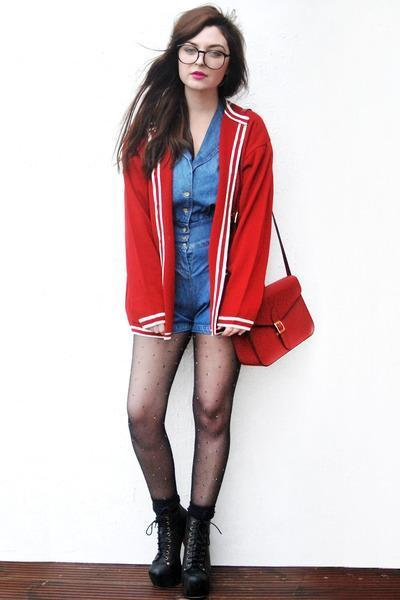bag: (230, 211, 313, 373)
jacket: (121, 87, 272, 335)
shirt: (166, 95, 227, 251), (232, 84, 247, 96)
shoe: (139, 492, 225, 599)
shorts: (171, 244, 213, 347)
